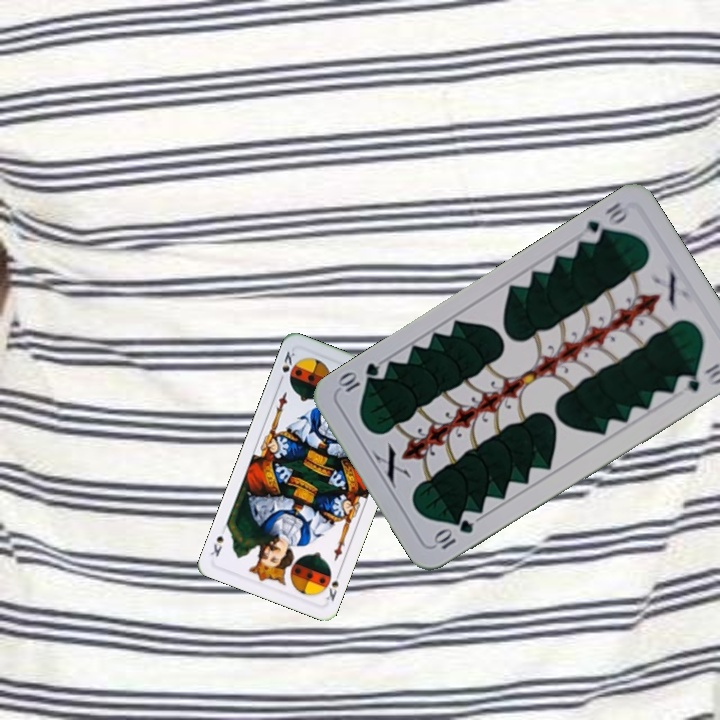G10: (576, 198, 631, 247), (430, 515, 476, 552)
SK: (275, 346, 299, 386), (319, 566, 344, 604)
